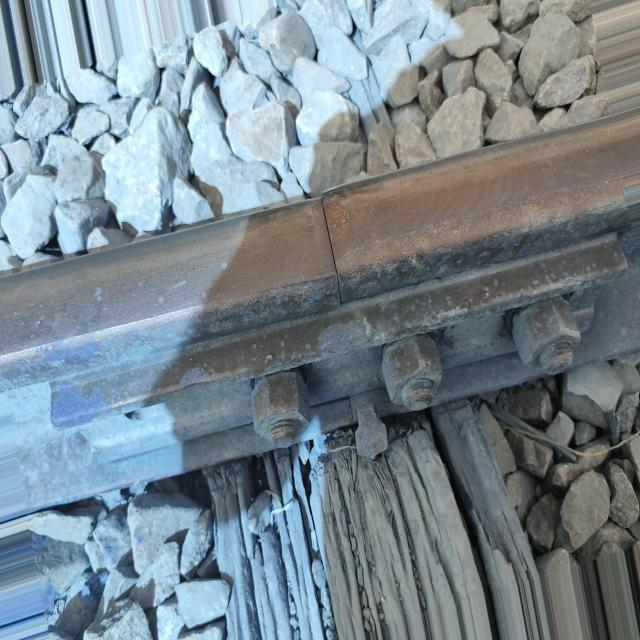Defective Joint: (47, 234, 630, 469)
